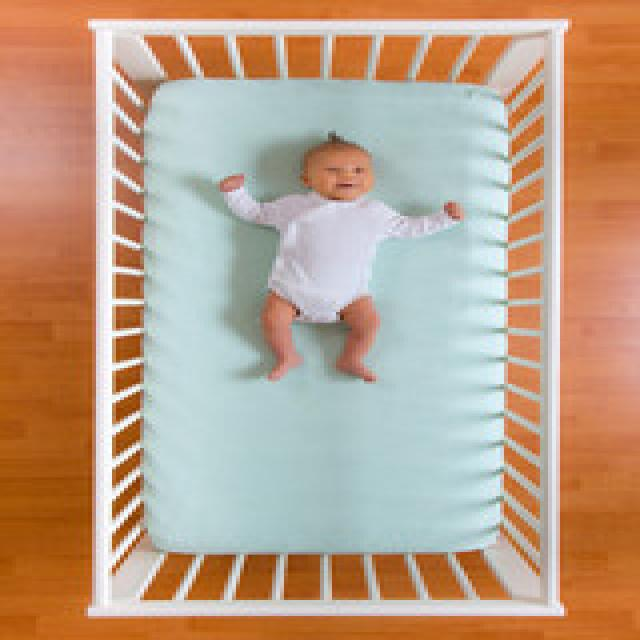baby: (212, 128, 464, 381)
crib: (84, 13, 568, 616)
